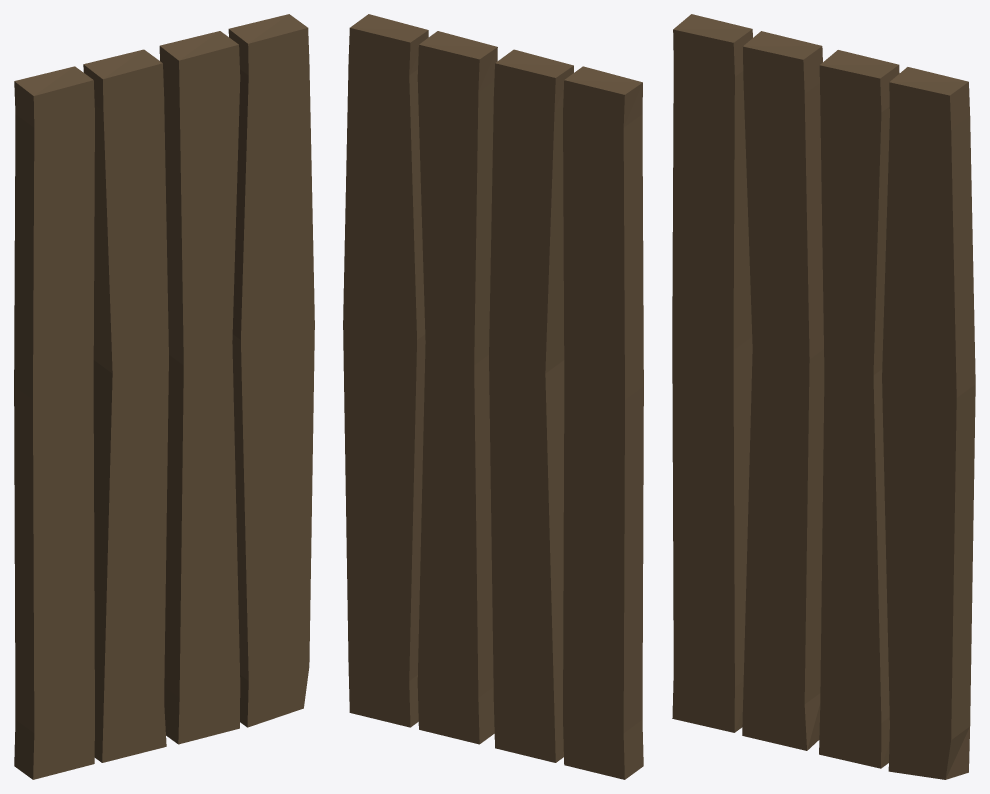
Rendered from hut_door.glb.
The picture shows the model from 3 angles, left to right: view 1: azimuth 30°, elevation 25°; view 2: azimuth 150°, elevation 25°; view 3: azimuth 330°, elevation 25°; orthographic projection.
Parts seen in each view (by area): view 1: SM_Bld_HutDoor_01; view 2: SM_Bld_HutDoor_01; view 3: SM_Bld_HutDoor_01.
Part boxes in pixels (<box>): SM_Bld_HutDoor_01: <box>14,14,314,779</box>; SM_Bld_HutDoor_01: <box>343,14,643,779</box>; SM_Bld_HutDoor_01: <box>672,14,975,779</box>.
Size of the model in its own units: 82.39 by 191 by 9.54.
Materials: 1 (1 with a texture image).
